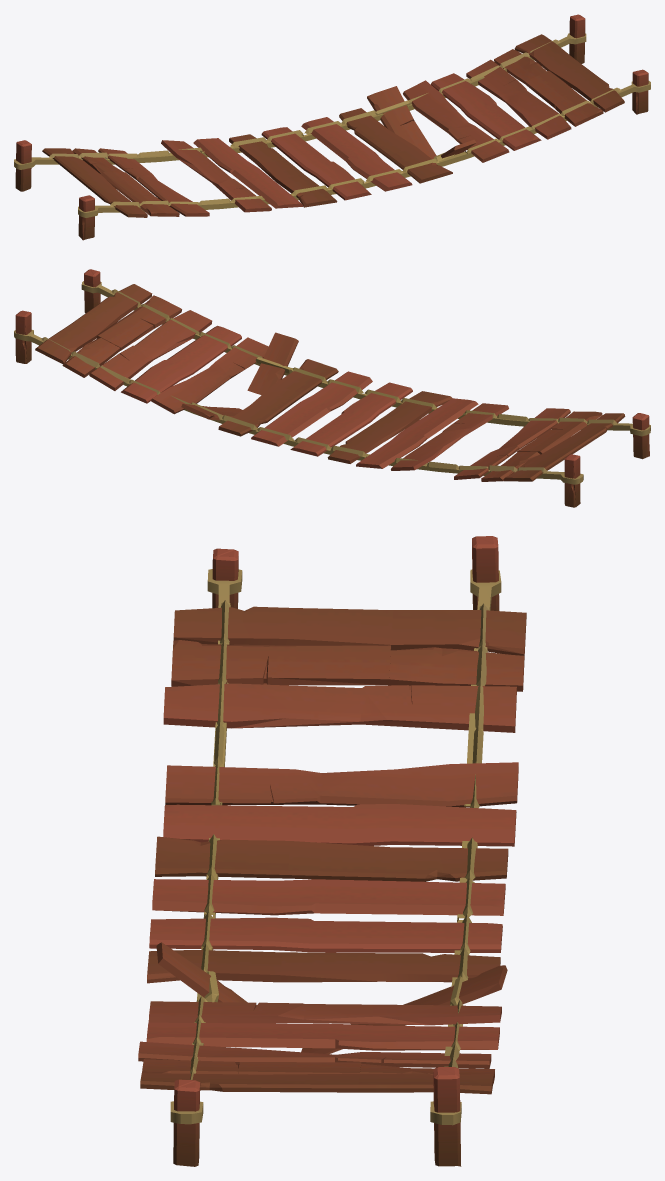
3 views of the same model, one above another, from view 1: azimuth 30°, elevation 25°; view 2: azimuth 150°, elevation 25°; view 3: azimuth 270°, elevation 25° (orthographic). The views are drawn at different scales.
Parts seen in each view (by area): view 1: HangingBridge; view 2: HangingBridge; view 3: HangingBridge.
Boxes of the visible parts, bbox=[...] form: HangingBridge: bbox=[14, 14, 650, 240]; HangingBridge: bbox=[14, 269, 650, 507]; HangingBridge: bbox=[138, 536, 526, 1166].
Size of the model in its own units: 8.52 by 1.23 by 2.55.
Materials: 1 (1 with a texture image).
